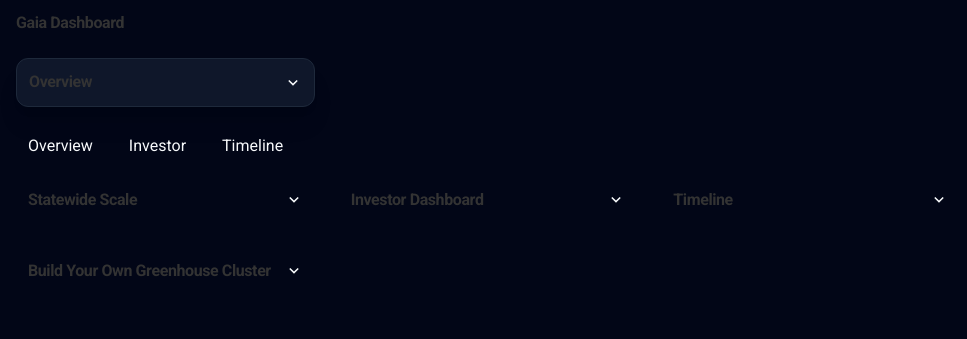
Dashboard page — Timeline section › shows "No timeline events available." when timeline is an empty array
Click the 4th button "Expand": (939, 200) top-left (930, 191), bottom-right (948, 209)
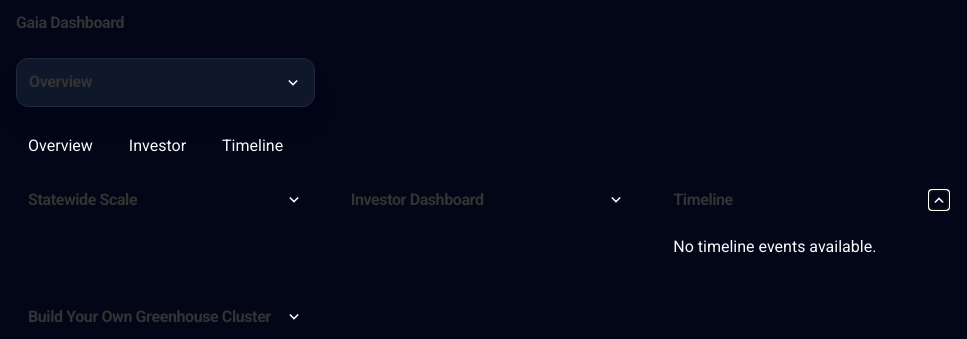
Check: the text "No timeline events available." is shown, box top-left (673, 237), bottom-right (876, 256)
